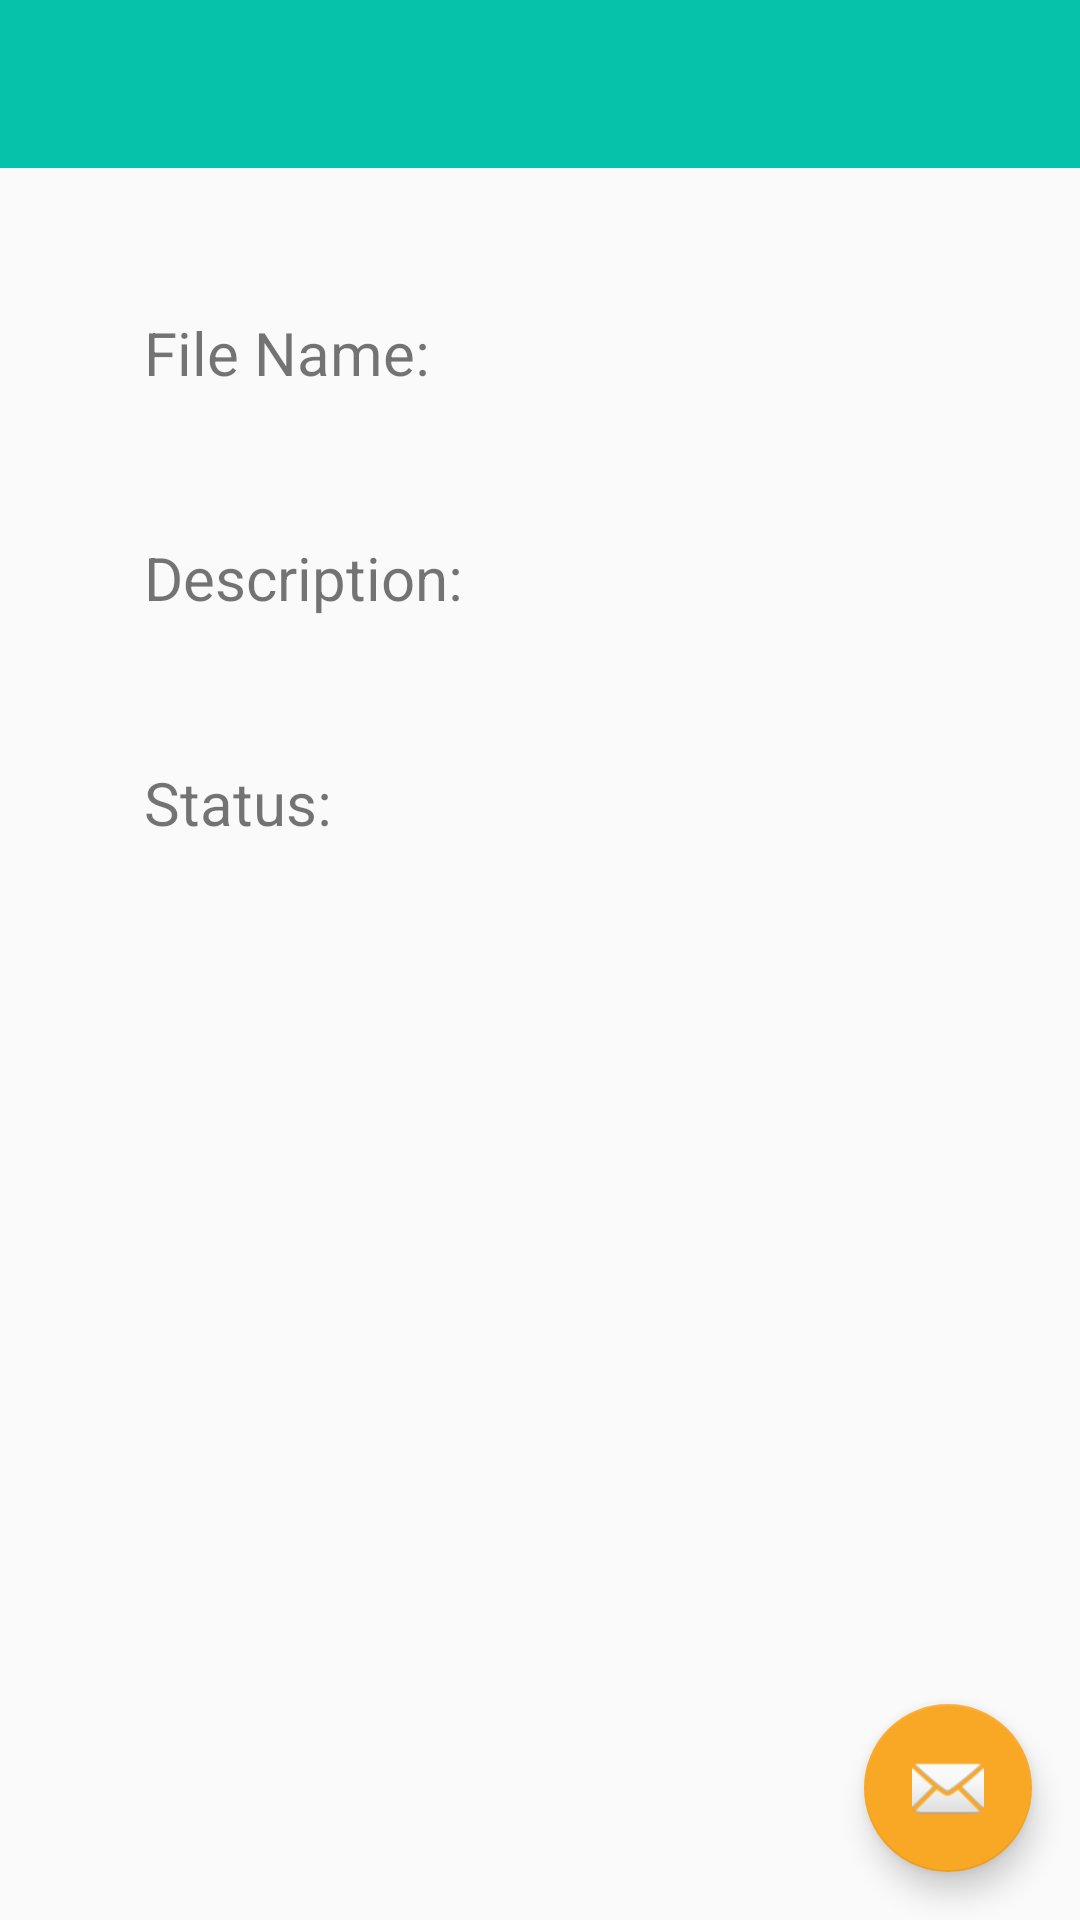

Icons on this 1080 × 1920 Android screen, each with its box as (x1, y1, x2, y2):
The floating button of detail page: (864, 1704, 1032, 1872)
